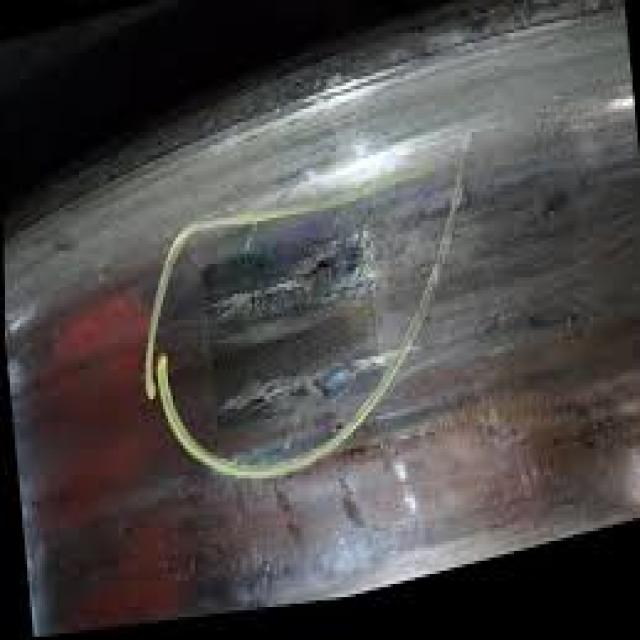Rollerpile: (186, 199, 404, 427)
